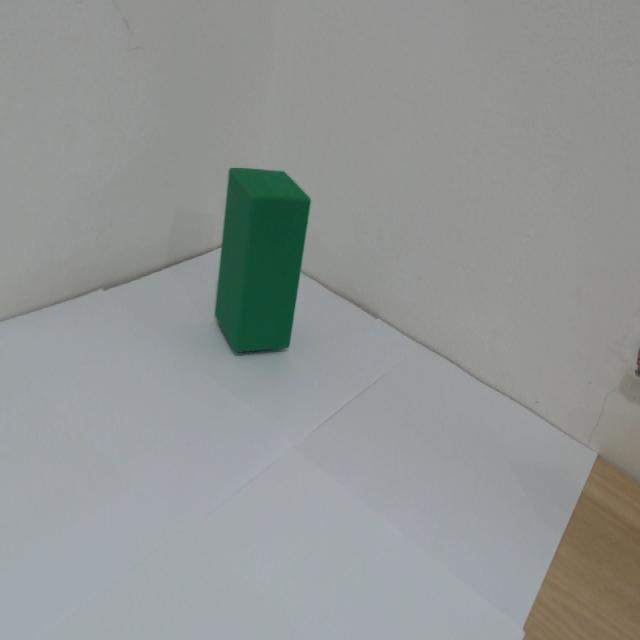cube: (192, 94, 318, 382)
